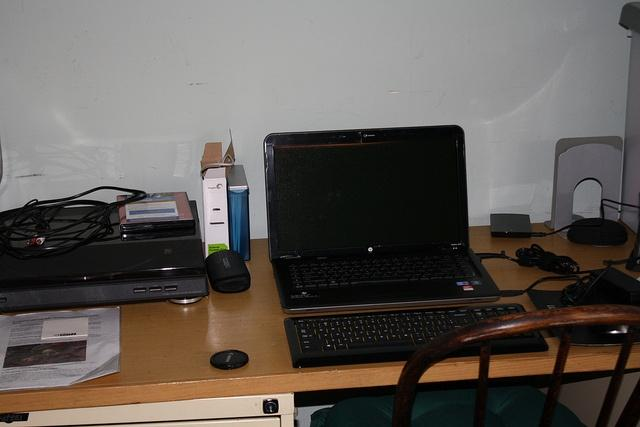Meja: (0, 215, 638, 417)
